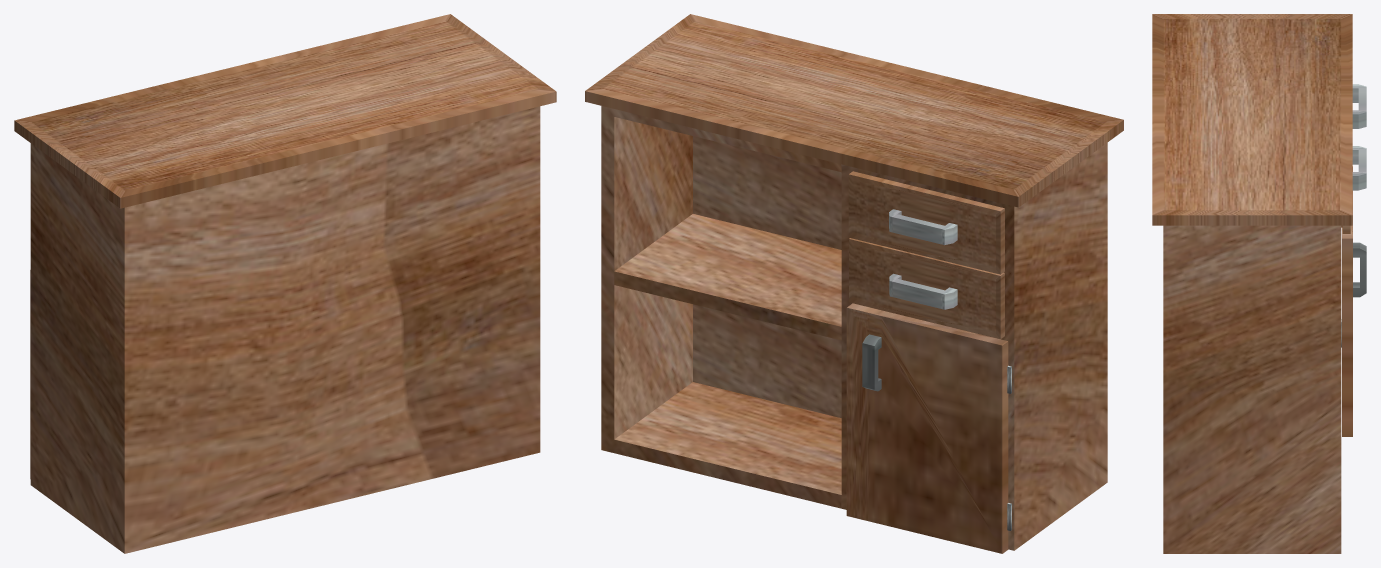
The model's file is cd lock 1.FBX.
3 renders of one model, left to right at view 1: azimuth 30°, elevation 25°; view 2: azimuth 150°, elevation 25°; view 3: azimuth 270°, elevation 25°, orthographic. The views are drawn at different scales.
Visible parts, largest first — view 1: Box001, Object004; view 2: Box001, Object004, Object002, Object001, Object006, Object005, Object007, Object003; view 3: Box001, Object004, Object002, Object005, Object007, Object003.
Part boxes in pixels (box(x1,y1,x2,y2)): Box001: box(30, 106, 540, 553); Object004: box(14, 14, 556, 208); Box001: box(601, 106, 1107, 550); Object004: box(585, 14, 1123, 207); Object002: box(846, 303, 1008, 553); Object001: box(848, 171, 1004, 274); Object006: box(849, 238, 1004, 339); Object005: box(889, 209, 957, 245); Object007: box(889, 273, 957, 309); Object003: box(862, 334, 881, 391); Box001: box(1163, 225, 1341, 553); Object004: box(1152, 14, 1352, 225); Object002: box(1342, 166, 1352, 436); Object005: box(1352, 84, 1366, 128); Object007: box(1352, 146, 1366, 190); Object003: box(1353, 242, 1366, 297).
Bounding box in the file's own units: 111 × 88.33 × 50.03.
2 materials, 2 textured.
